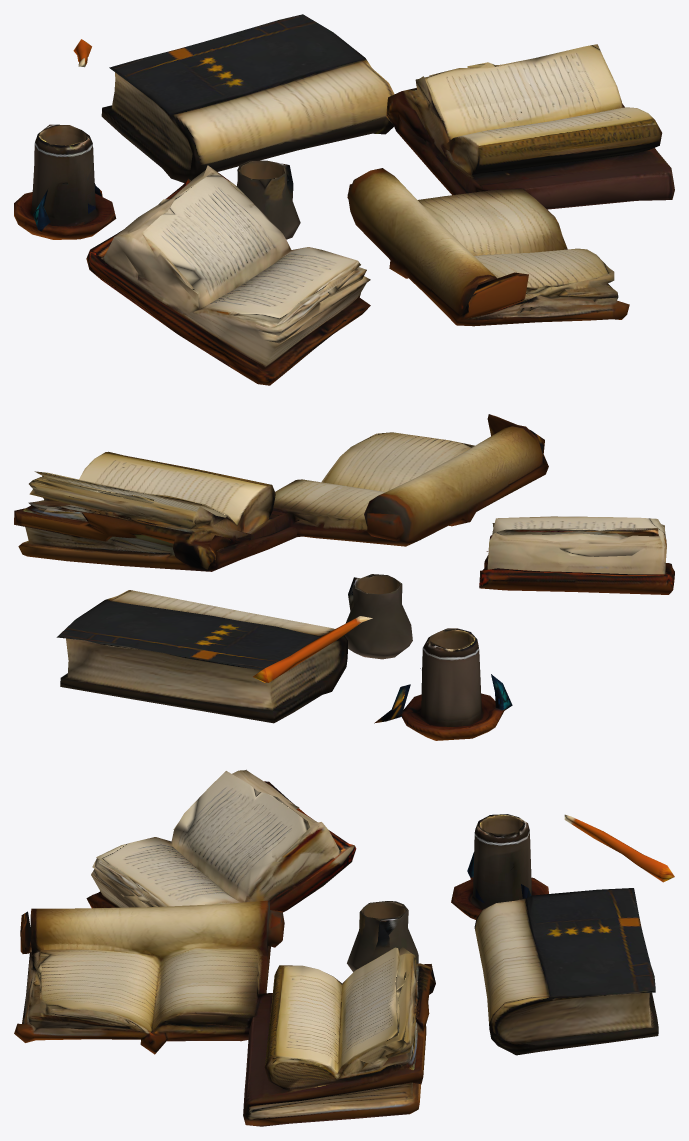
Rendered from round+research+table+3d+model.obj.
3 views of the same model, one above another, from view 1: azimuth 30°, elevation 25°; view 2: azimuth 150°, elevation 25°; view 3: azimuth 270°, elevation 25° (orthographic). The views are drawn at different scales.
Parts seen in each view (by area): view 1: tripo_node_721d382f-d1ae-4bff-a80f-262fc90454bc; view 2: tripo_node_721d382f-d1ae-4bff-a80f-262fc90454bc; view 3: tripo_node_721d382f-d1ae-4bff-a80f-262fc90454bc.
Part boxes in pixels (left/top/right/bottom): tripo_node_721d382f-d1ae-4bff-a80f-262fc90454bc: left=14, top=14, right=674, bottom=385; tripo_node_721d382f-d1ae-4bff-a80f-262fc90454bc: left=14, top=414, right=674, bottom=740; tripo_node_721d382f-d1ae-4bff-a80f-262fc90454bc: left=14, top=769, right=674, bottom=1126.
Size of the model in its own units: 0.9869 by 0.2059 by 1.
Materials: 1 (1 with a texture image).
